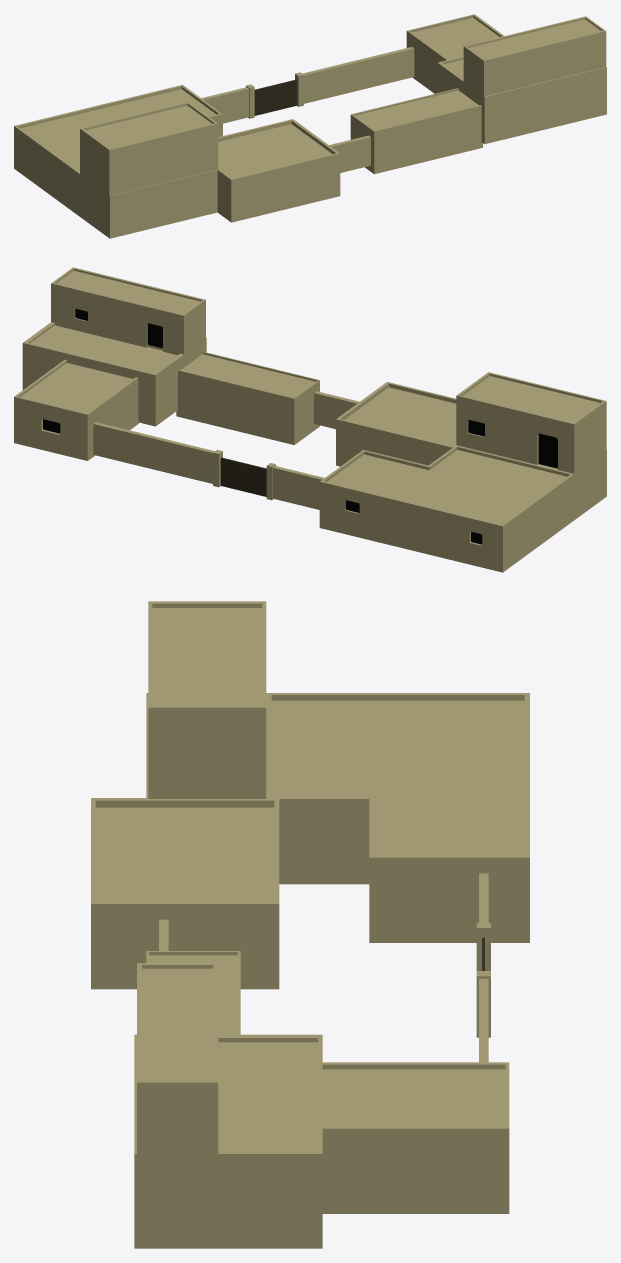
Rendered from Big_Compound.fbx.
3 views of the same model, one above another, from view 1: azimuth 30°, elevation 25°; view 2: azimuth 150°, elevation 25°; view 3: azimuth 270°, elevation 25° (orthographic). The views are drawn at different scales.
Parts seen in each view (by area): view 1: pCube118, pCube115, pCube117, pCube116, pCube120, pCube114, pCube121, pCube122, pCube119; view 2: pCube118, pCube115, pCube116, pCube114, pCube117, pCube120, pCube121, pCube122, pCube119; view 3: pCube118, pCube115, pCube117, pCube114, pCube116, pCube120, pCube121.
Boxes of the visible parts, x1,y1,x2,y2 form: pCube118: [14, 85, 222, 238]; pCube115: [437, 16, 606, 144]; pCube117: [217, 119, 340, 222]; pCube116: [350, 88, 482, 174]; pCube120: [295, 47, 414, 106]; pCube114: [406, 14, 503, 93]; pCube121: [201, 84, 254, 123]; pCube122: [254, 79, 297, 115]; pCube119: [329, 135, 370, 172]; pCube118: [319, 372, 606, 572]; pCube115: [22, 267, 206, 426]; pCube116: [176, 351, 319, 444]; pCube114: [14, 359, 138, 460]; pCube117: [336, 382, 457, 466]; pCube120: [93, 422, 222, 487]; pCube121: [266, 463, 324, 509]; pCube122: [220, 457, 266, 496]; pCube119: [314, 391, 359, 429]; pCube118: [146, 601, 529, 942]; pCube115: [134, 963, 322, 1248]; pCube117: [91, 798, 279, 989]; pCube114: [322, 1062, 509, 1213]; pCube116: [146, 951, 240, 1034]; pCube120: [476, 971, 490, 1062]; pCube121: [476, 873, 490, 970].
Bounding box in the file's own units: 3634 × 624 × 1398.
